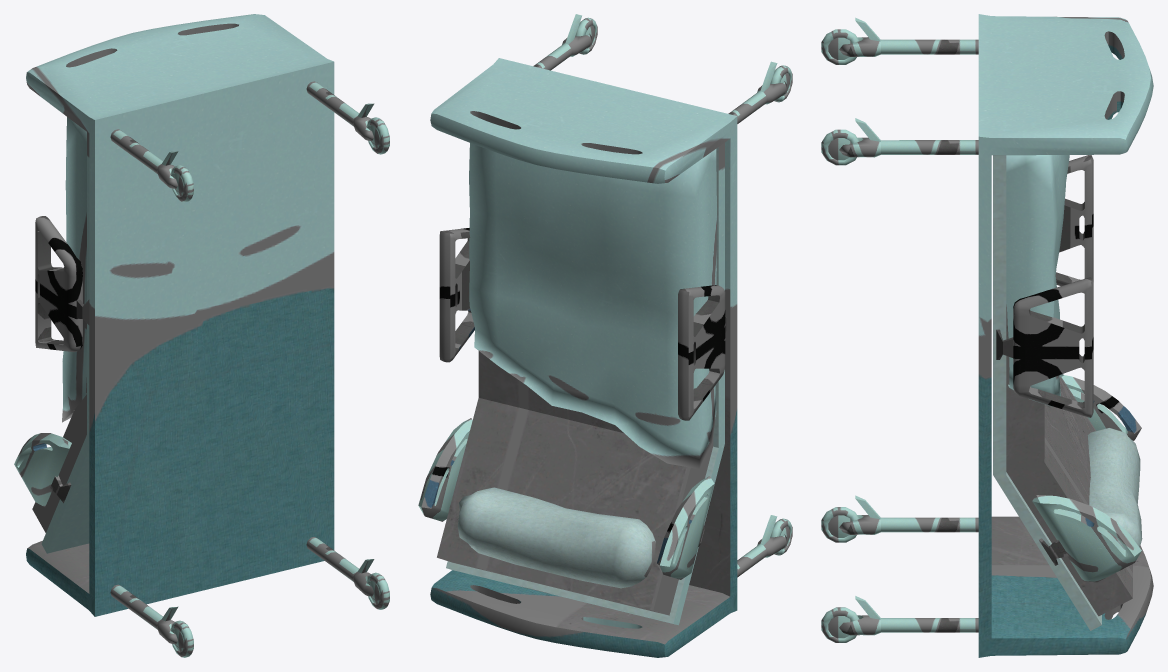
Rendered from LlitHosp.FBX.
3 views of the same model, side by side, from view 1: azimuth 30°, elevation 25°; view 2: azimuth 150°, elevation 25°; view 3: azimuth 270°, elevation 25° (orthographic). The views are drawn at different scales.
Parts seen in each view (by area): view 1: LlitHospSencer; view 2: LlitHospSencer; view 3: LlitHospSencer.
Boxes of the visible parts, left/top/right/bottom form: LlitHospSencer: left=14, top=14, right=389, bottom=657; LlitHospSencer: left=418, top=14, right=792, bottom=657; LlitHospSencer: left=821, top=14, right=1153, bottom=657.
Size of the model in its own units: 116 by 220 by 126.
1 material, 1 textured.
